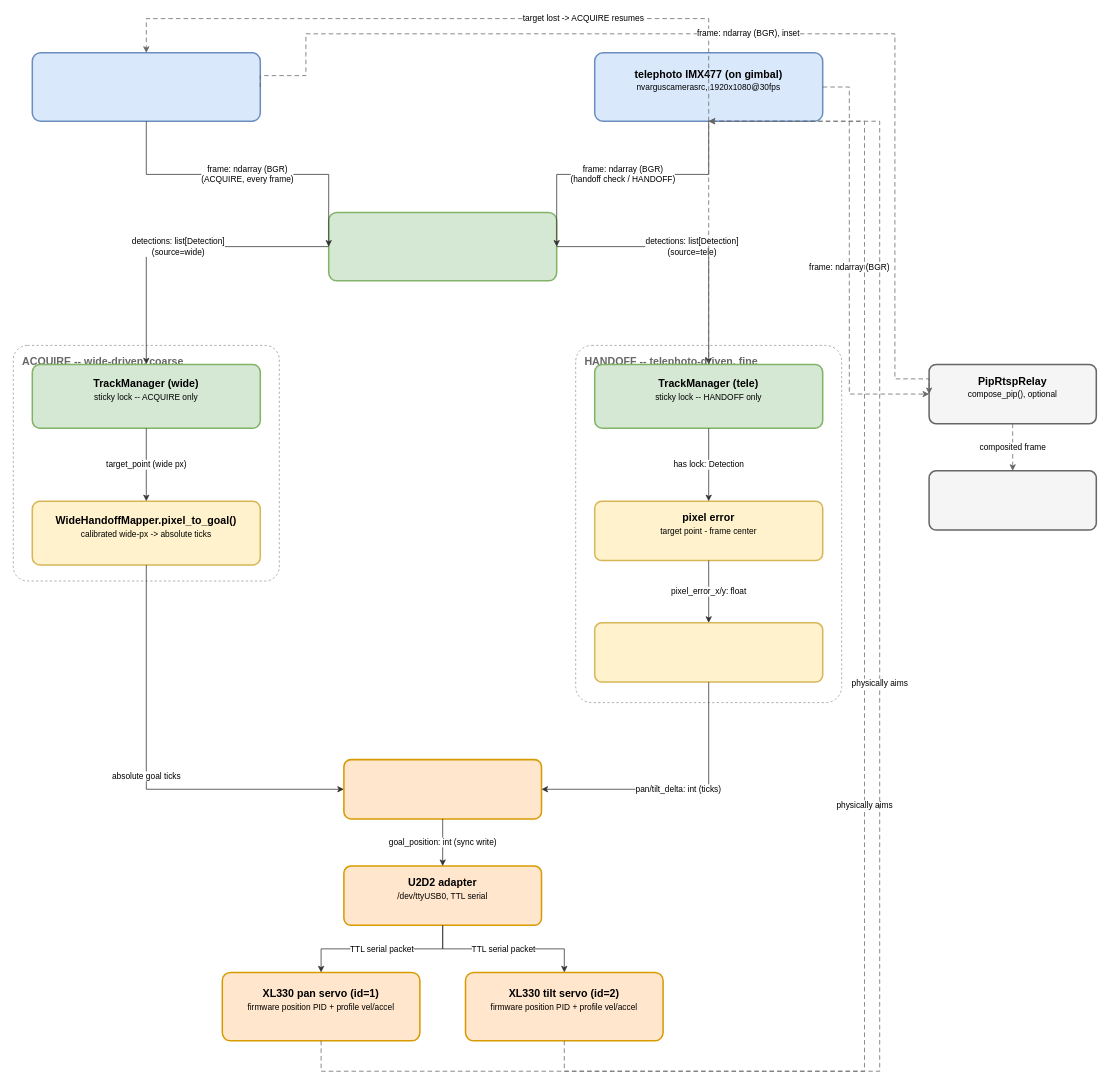
This 1110x1091 diagram has some shape labels left out. The centre of each missing label's shape, as x and y in pixels:
PanTiltController clamp, sync-write goal: (x=442, y=788)
ProportionalGain (pan + tilt) kp * error, with deadband: (x=708, y=652)
RTSP server x264enc, optional: (x=1012, y=500)
wide IMX477 (fixed) nvarguscamerasrc, 1920x1080@30fps: (x=146, y=87)
YoloDetector (shared) track(frame, reset=source changed): (x=442, y=246)
